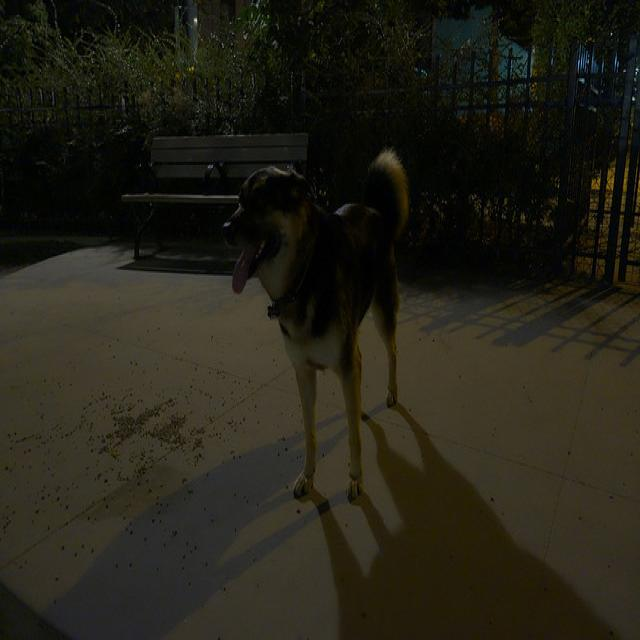chair: (119, 83, 347, 280)
dog: (225, 134, 508, 593)
